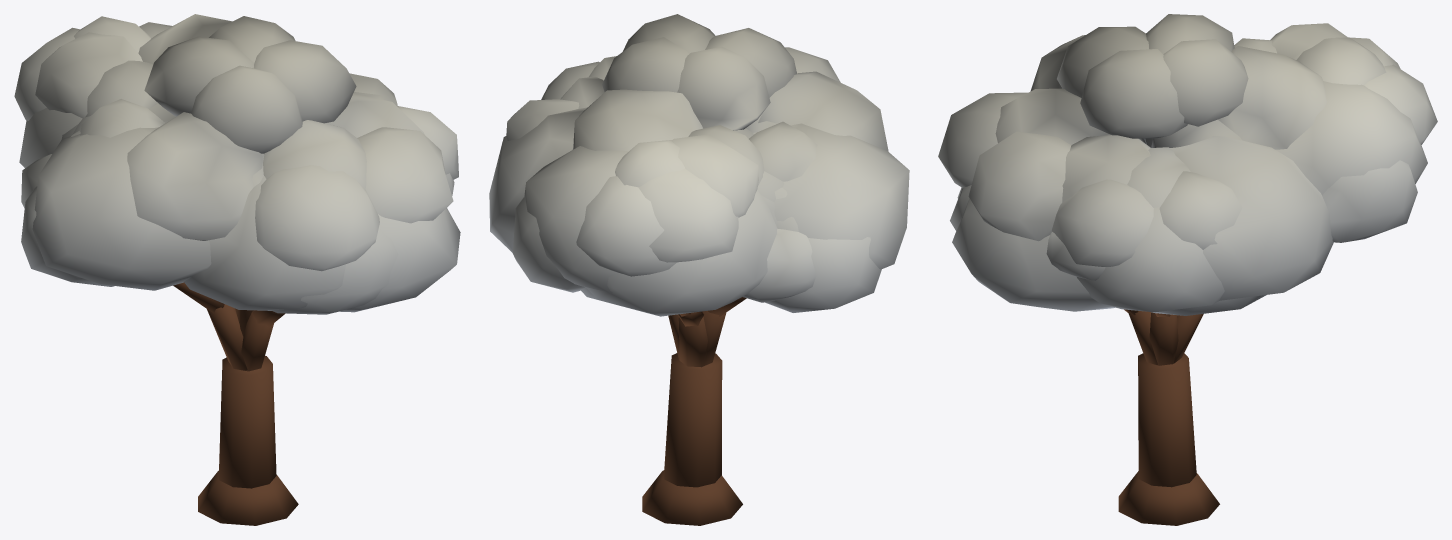
3 renders of one model, left to right at view 1: azimuth 30°, elevation 25°; view 2: azimuth 150°, elevation 25°; view 3: azimuth 270°, elevation 25°, orthographic.
Parts seen in each view (by area): view 1: crown, trunk; view 2: crown, trunk; view 3: crown, trunk.
Part boxes in pixels (x1,y1,x2,y2): crown: [14, 14, 460, 314]; trunk: [173, 282, 298, 525]; crown: [489, 14, 909, 316]; trunk: [642, 297, 746, 525]; crown: [938, 14, 1437, 315]; trunk: [1118, 309, 1219, 525].
Size of the model in its own units: 13.1 by 15.29 by 14.75.
